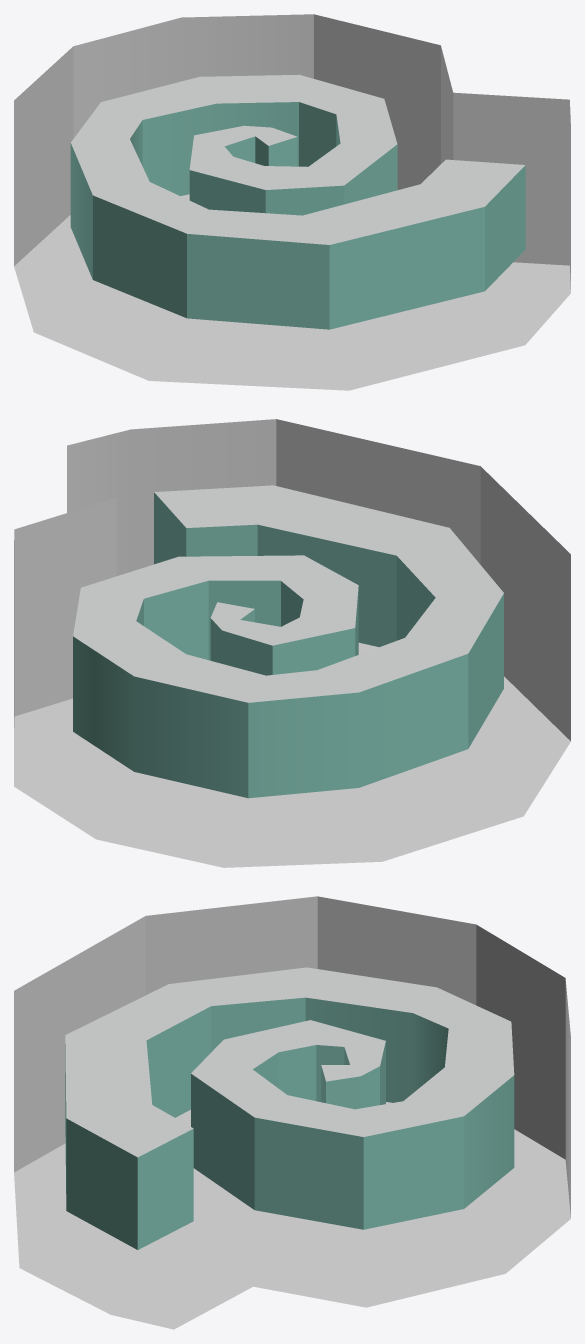
Rendered from GlowStickMintSwirl.glb.
3 views of the same model, one above another, from view 1: azimuth 30°, elevation 25°; view 2: azimuth 150°, elevation 25°; view 3: azimuth 270°, elevation 25° (orthographic). The views are drawn at different scales.
Parts seen in each view (by area): view 1: GlowStickMintSwirl; view 2: GlowStickMintSwirl; view 3: GlowStickMintSwirl.
Boxes of the visible parts, bbox=[...] form: GlowStickMintSwirl: bbox=[14, 14, 570, 390]; GlowStickMintSwirl: bbox=[14, 419, 570, 867]; GlowStickMintSwirl: bbox=[14, 896, 570, 1329].
Size of the model in its own units: 0.2339 by 0.0788 by 0.2189.
